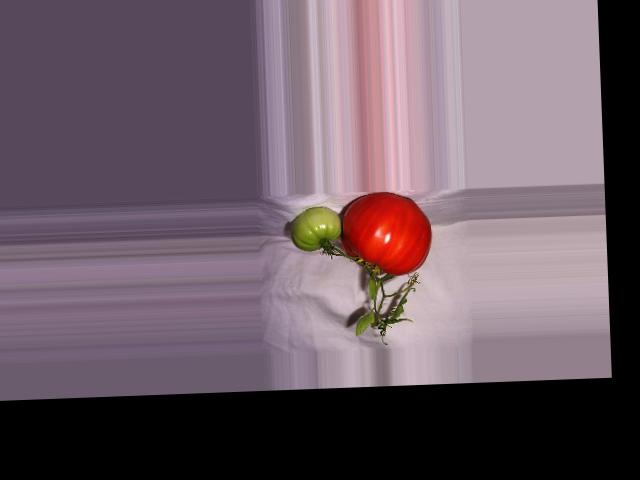tomato: (338, 190, 433, 277)
